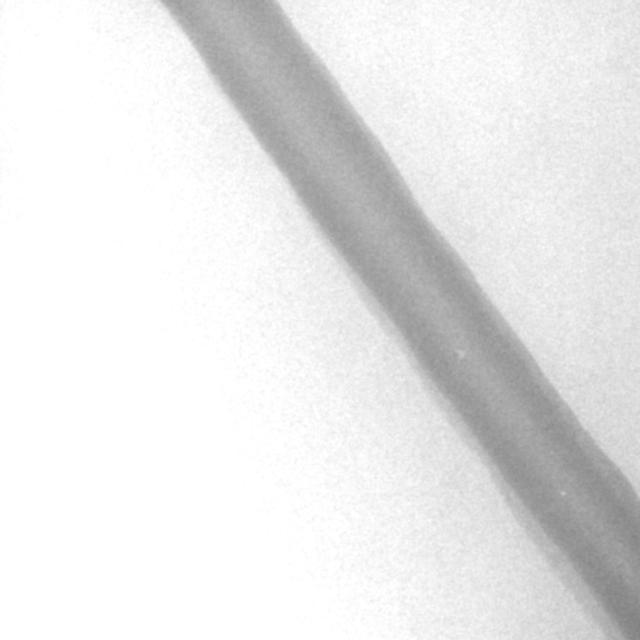air hole: (454, 345, 467, 363), (557, 486, 567, 498)
